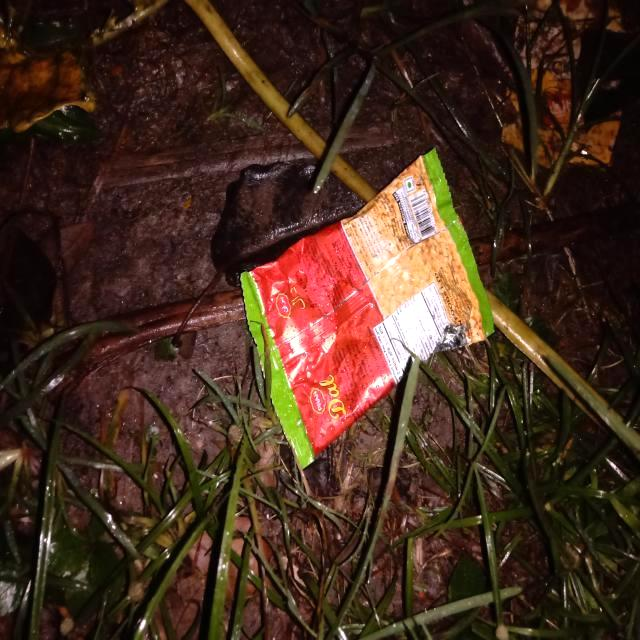packet: (247, 208, 482, 408)
